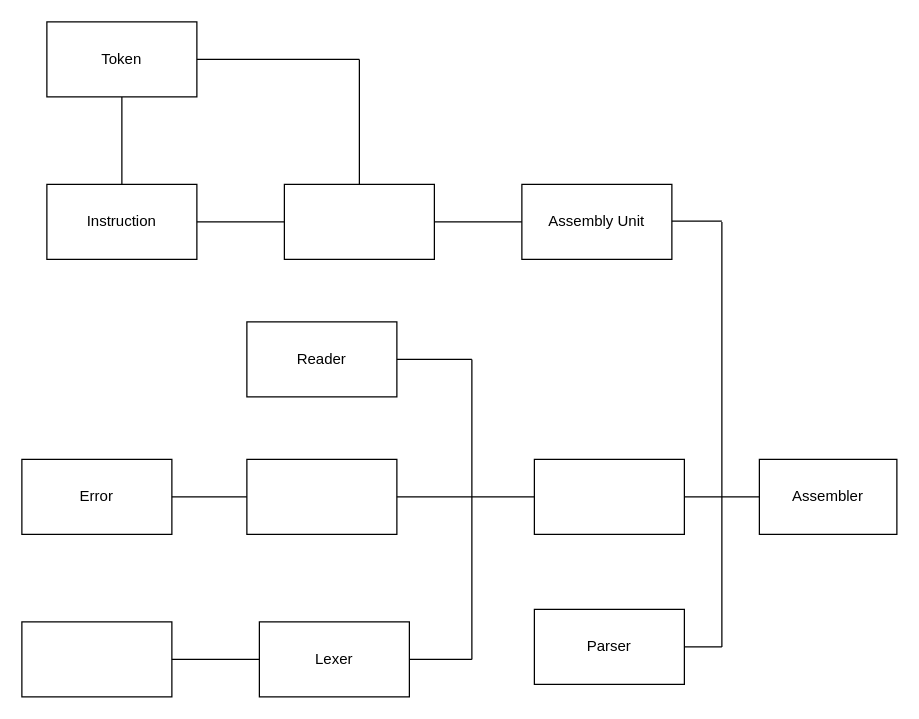
Image size: 919x719. Some labels were removed from this diagram. Here are the shapes that lost their labels. From the top down, the centre of each, then its label:
At [358,221]: "Line Statement".
At [321,496]: "Error Reporter".
At [608,496]: "Environment".
At [96,659]: "Symbol Table".
